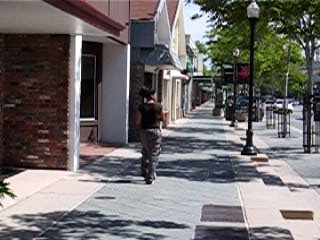person: (136, 89, 167, 185), (135, 89, 166, 185), (137, 89, 168, 185), (136, 88, 167, 184), (136, 90, 167, 186)
target_negative: (82, 54, 299, 209), (54, 143, 223, 182), (234, 64, 236, 160), (265, 127, 267, 160)
